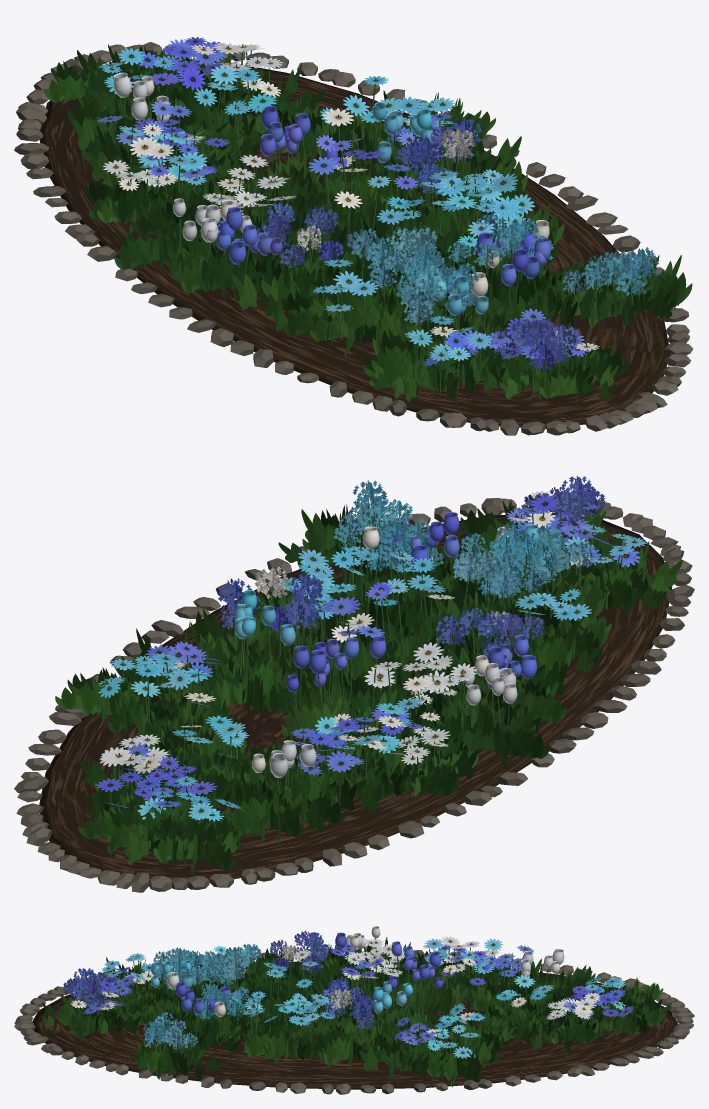
The model's file is flower-bed-10.glb.
The picture shows the model from 3 angles, top to bottom: view 1: azimuth 30°, elevation 25°; view 2: azimuth 150°, elevation 25°; view 3: azimuth 270°, elevation 25°; orthographic projection. The views are drawn at different scales.
Parts seen in each view (by area): view 1: flower-bed-10_FlowerFoliage, flower-bed-10_Mulch, flower-bed-10_FlowerDaisy, flower-bed-10_FlowerFloret, flower-bed-10_EdgeStone, flower-bed-10_FlowerCup, flower-bed-10_FlowerStem; view 2: flower-bed-10_FlowerFoliage, flower-bed-10_Mulch, flower-bed-10_FlowerDaisy, flower-bed-10_FlowerFloret, flower-bed-10_EdgeStone, flower-bed-10_FlowerCup, flower-bed-10_FlowerStem; view 3: flower-bed-10_FlowerFoliage, flower-bed-10_Mulch, flower-bed-10_FlowerDaisy, flower-bed-10_FlowerFloret, flower-bed-10_EdgeStone, flower-bed-10_FlowerCup, flower-bed-10_FlowerStem.
Boxes of the visible parts, <box> form: flower-bed-10_FlowerFoliage: <box>44,44,692,406</box>; flower-bed-10_Mulch: <box>39,61,669,428</box>; flower-bed-10_FlowerDaisy: <box>97,37,599,366</box>; flower-bed-10_FlowerFloret: <box>256,119,658,370</box>; flower-bed-10_EdgeStone: <box>14,42,693,435</box>; flower-bed-10_FlowerCup: <box>113,72,550,315</box>; flower-bed-10_FlowerStem: <box>109,38,644,395</box>; flower-bed-10_FlowerFoliage: <box>55,499,682,874</box>; flower-bed-10_Mulch: <box>39,513,671,880</box>; flower-bed-10_FlowerDaisy: <box>96,490,647,821</box>; flower-bed-10_FlowerFloret: <box>218,475,605,660</box>; flower-bed-10_EdgeStone: <box>14,498,694,892</box>; flower-bed-10_FlowerCup: <box>234,512,561,777</box>; flower-bed-10_FlowerStem: <box>106,494,634,827</box>; flower-bed-10_FlowerFoliage: <box>42,937,670,1087</box>; flower-bed-10_Mulch: <box>32,961,677,1089</box>; flower-bed-10_FlowerDaisy: <box>70,936,633,1058</box>; flower-bed-10_FlowerFloret: <box>63,930,374,1049</box>; flower-bed-10_EdgeStone: <box>14,949,694,1094</box>; flower-bed-10_FlowerCup: <box>151,926,564,1017</box>; flower-bed-10_FlowerStem: <box>74,938,626,1063</box>.
Size of the model in its own units: 2.77 by 0.6661 by 5.57.
Materials: 7 (4 with a texture image).
